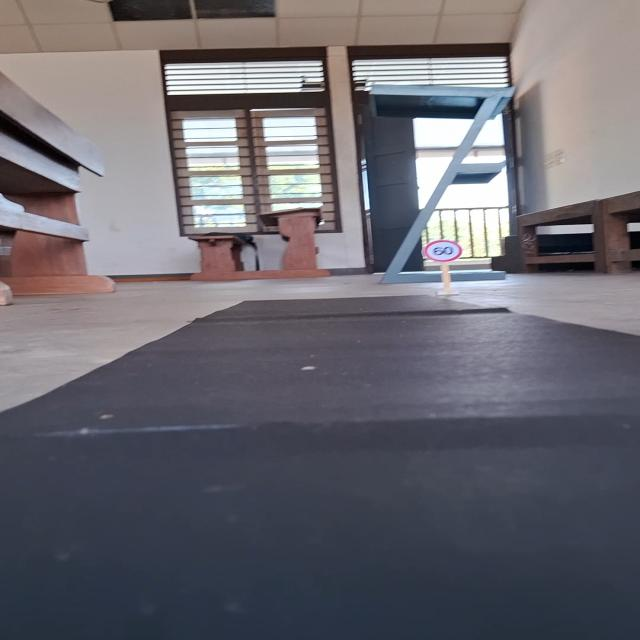Speed60: (419, 239, 466, 264)
